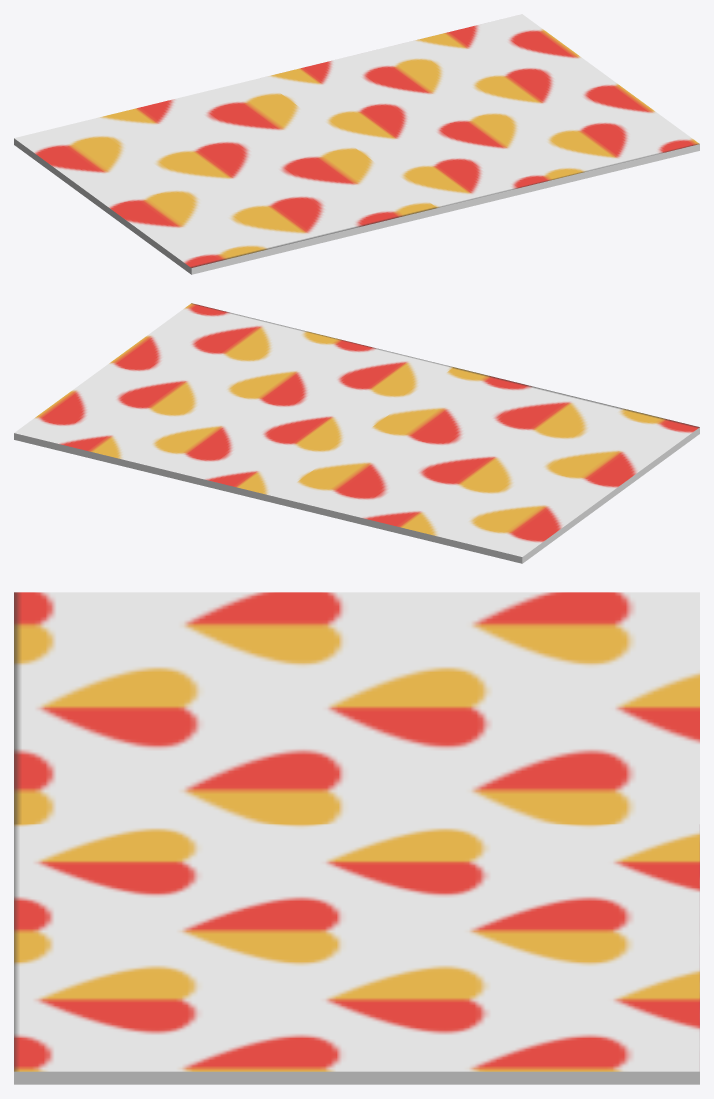
3 views of the same model, one above another, from view 1: azimuth 30°, elevation 25°; view 2: azimuth 150°, elevation 25°; view 3: azimuth 270°, elevation 25° (orthographic). The views are drawn at different scales.
Visible parts, largest first — view 1: Mat_B; view 2: Mat_B; view 3: Mat_B.
Part boxes in pixels (x1,y1,x2,y2): Mat_B: [14, 14, 699, 274]; Mat_B: [14, 303, 699, 563]; Mat_B: [14, 592, 699, 1084].
Size of the model in its own units: 268 by 3.38 by 162.
